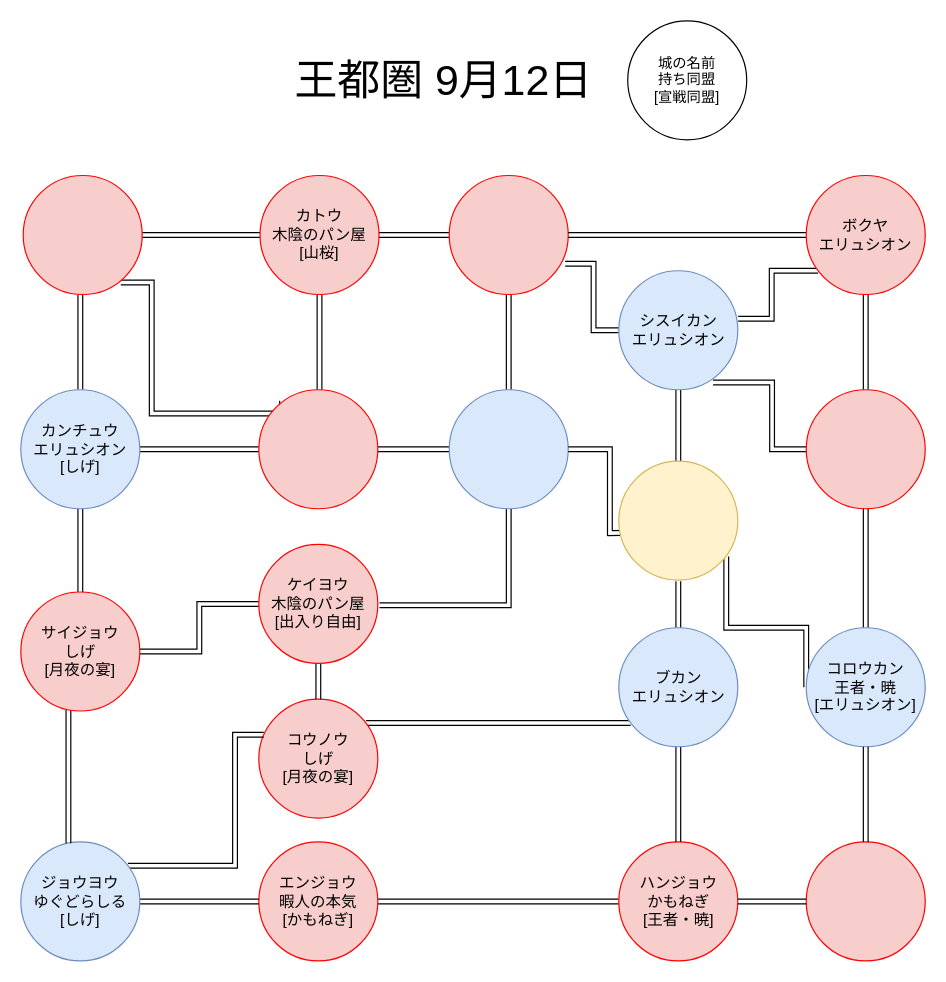
This 946x982 diagram has some shape labels left out. The centre of each missing label's shape, as x and y in pixels:
カザン 山桜 [豆お餅]: [82,234]
カダイ エリュシオン: [508,234]
カンコクカン エリュシオン [木陰のパン屋]: [508,449]
スウザン エリュシオン: [865,449]
ドウカン エリュシオン [木陰のパン屋]: [318,449]
ラクヨウ エリュシオン [王者・暁]: [678,520]
ロヨウ 王者・暁 [無課金勢～]: [865,901]
